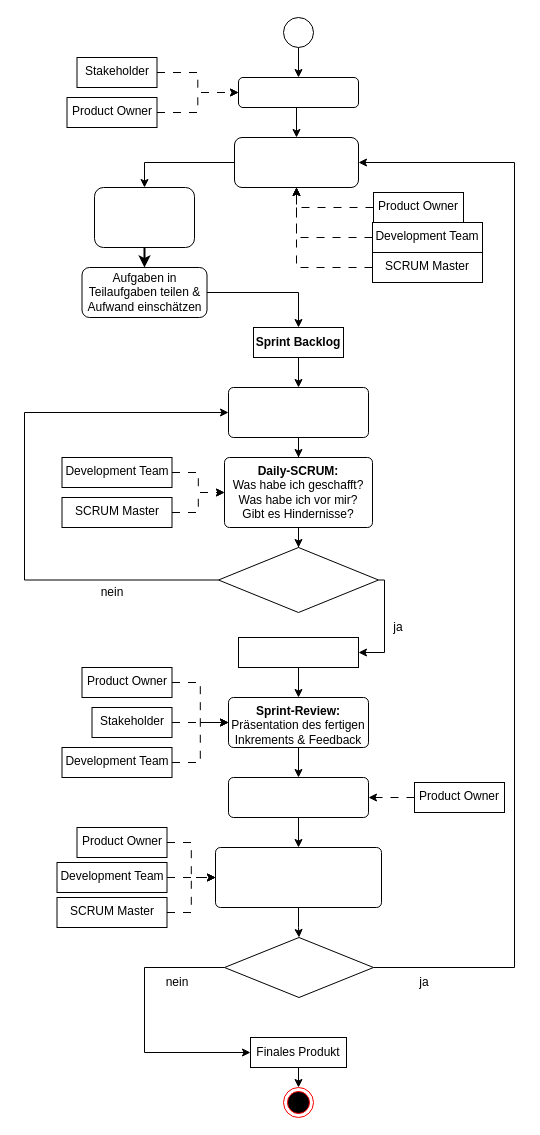
This 540x1135 diagram has some shape labels left out. Each missing label, with the centre of its shape:
Anpassung des Product Backlogs: [298,797]
Product Backlog definieren: [298,92]
Produkt-Inkrement: [298,652]
Sprint Goal definieren & Product Backlog Items auswählen: [144,217]
Sprint Planning: Anforderungsanalyse & Prioritäten: [296,162]
Sprint-Durchführung: Arbeit an den Aufgaben für einen Tag: [298,412]
Sprint-Retrospective: Analyse der Zusammenarbeit, Verbesserungsmaßnahmen: [298,877]
Sprint-Zeit abgelaufen?: [298,579]
Weiterentwicklung?: [299,967]
